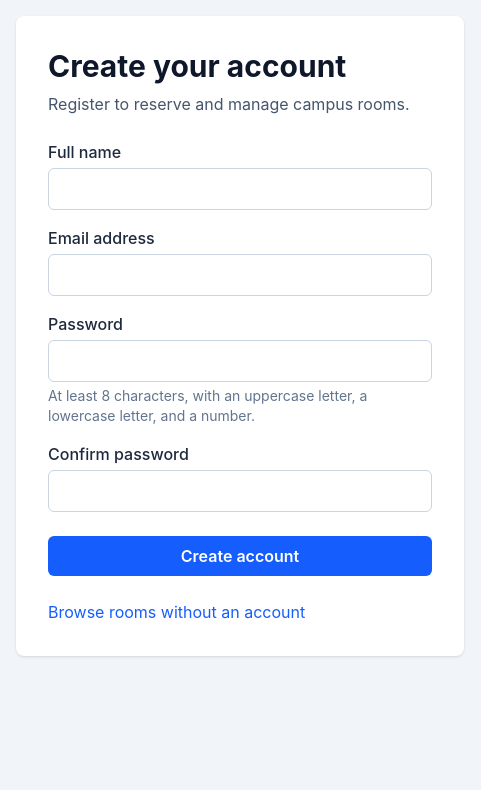
Test case: RegisterPage › clears a field error once the user edits that field
Click the button "Create account" at (240, 556), box left=48, top=536, right=432, bottom=576
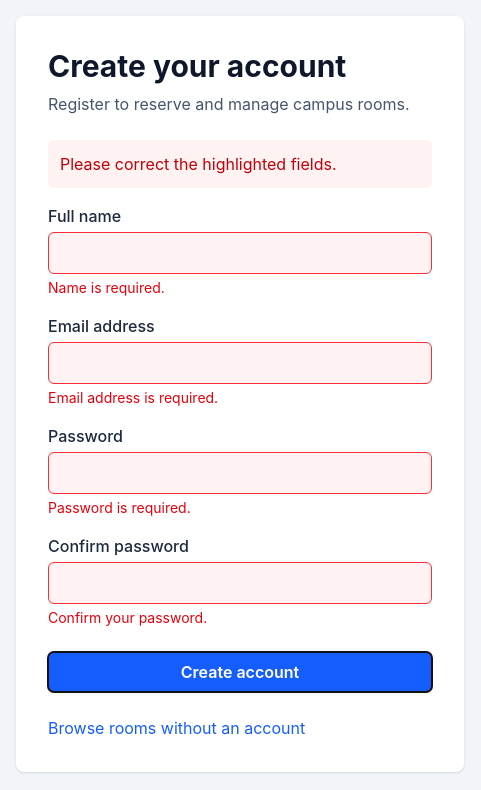
Result: the text "Name is required." is shown at left=48, top=279, right=165, bottom=296
Type "Varun" into the field labelled "Full name" at (240, 253), box left=48, top=232, right=432, bottom=274
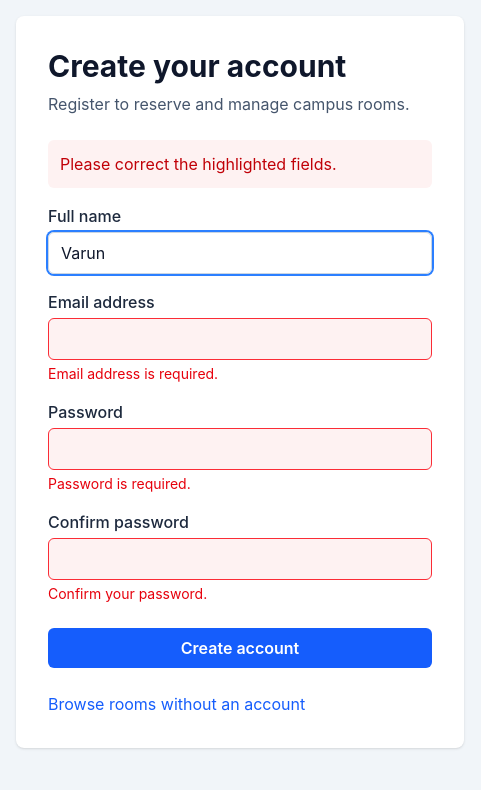
Result: the text "Name is required." is gone
